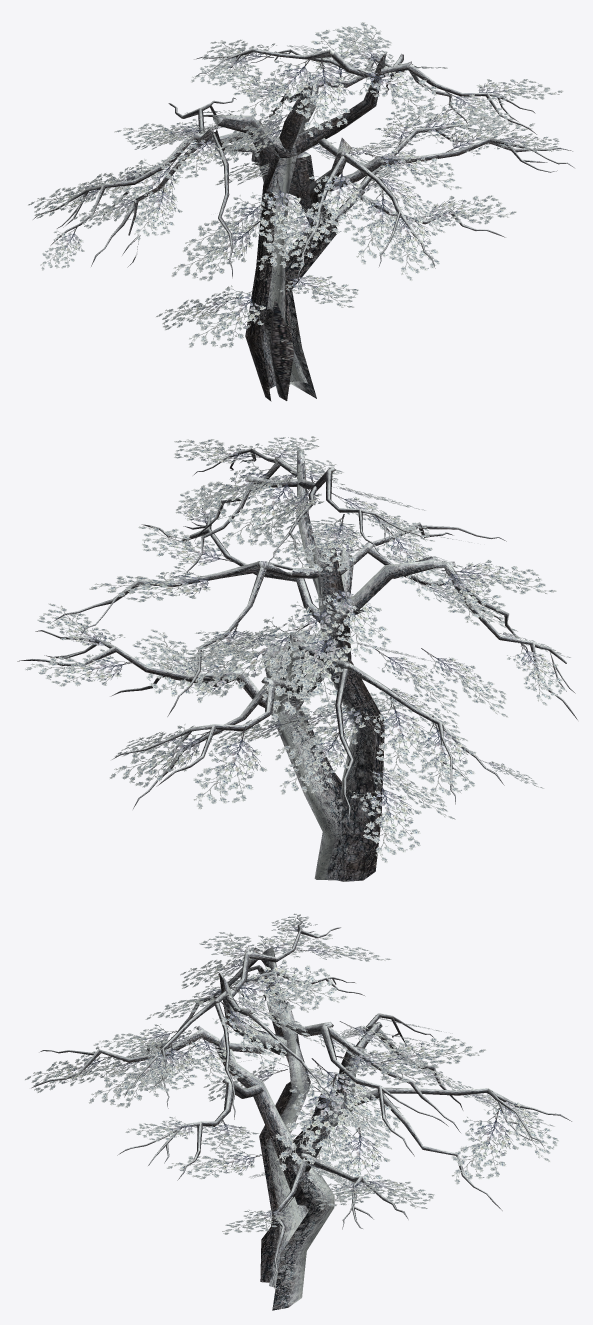
The model's file is S_Tree_White018_A1.FBX.
The picture shows the model from 3 angles, top to bottom: view 1: azimuth 30°, elevation 25°; view 2: azimuth 150°, elevation 25°; view 3: azimuth 270°, elevation 25°; orthographic projection. The views are drawn at different scales.
Visible parts, largest first — view 1: S_Tree_White018_A1; view 2: S_Tree_White018_A1; view 3: S_Tree_White018_A1.
Part boxes in pixels (x1,y1,x2,y2): S_Tree_White018_A1: [28, 22, 574, 401]; S_Tree_White018_A1: [17, 436, 577, 881]; S_Tree_White018_A1: [25, 913, 571, 1310].
Bounding box in the file's own units: 1318 × 939 × 1328.
